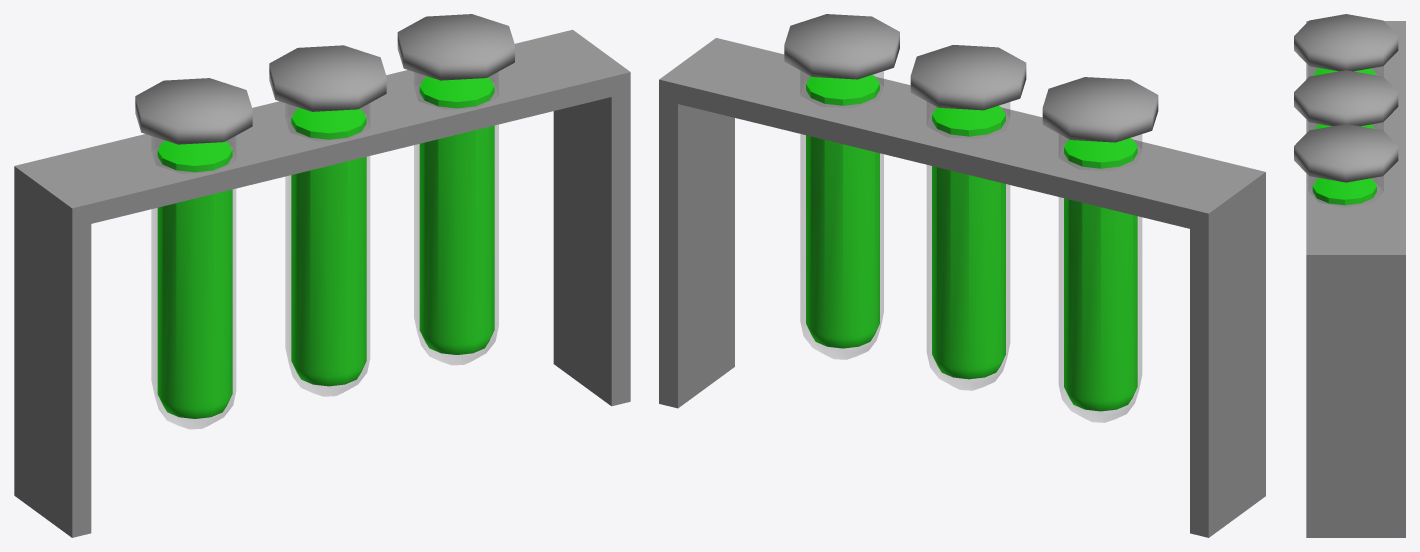
Rendered from Vials_Full_02.fbx.
The picture shows the model from 3 angles, left to right: view 1: azimuth 30°, elevation 25°; view 2: azimuth 150°, elevation 25°; view 3: azimuth 270°, elevation 25°; orthographic projection. The views are drawn at different scales.
Parts seen in each view (by area): view 1: Vials_Full_02; view 2: Vials_Full_02; view 3: Vials_Full_02.
Boxes of the visible parts, x1,y1,x2,y2 form: Vials_Full_02: [14, 14, 630, 537]; Vials_Full_02: [659, 14, 1265, 537]; Vials_Full_02: [1294, 14, 1405, 537].
Bounding box in the file's own units: 100 × 65.48 × 20.21.
